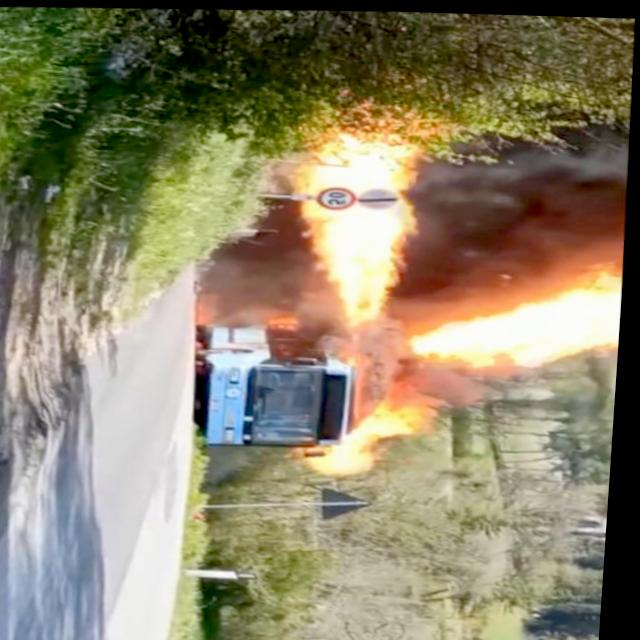helmet: (302, 103, 421, 320), (419, 273, 626, 366), (312, 399, 432, 473)
no_helmet: (418, 125, 607, 268), (187, 197, 341, 320)
